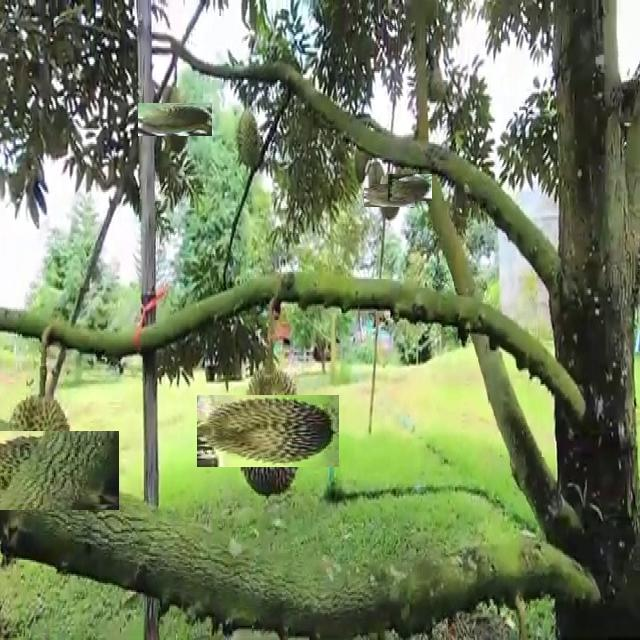durian: (0, 412, 100, 528), (215, 378, 322, 484), (148, 92, 202, 146), (234, 108, 266, 175), (371, 177, 409, 214), (392, 169, 428, 205), (349, 138, 370, 188), (366, 162, 386, 202)
